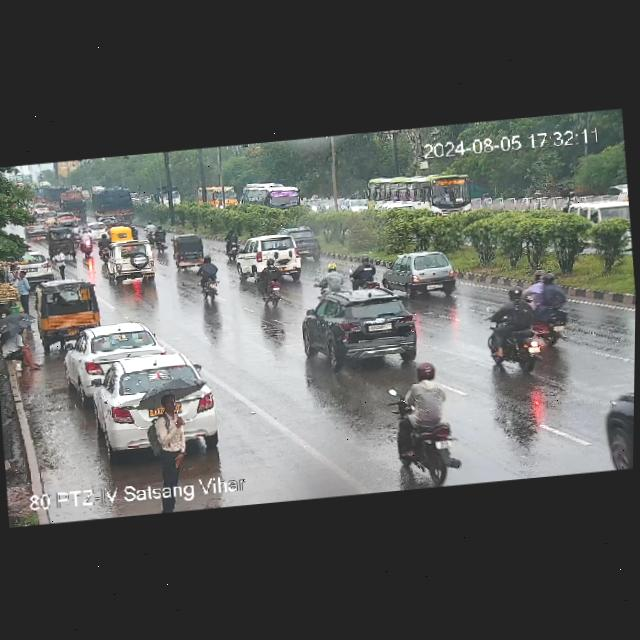bus: (369, 171, 483, 226), (241, 178, 302, 217)
car: (292, 282, 420, 371), (89, 350, 215, 434), (64, 319, 162, 386), (33, 278, 106, 344), (376, 248, 460, 302), (592, 383, 634, 472), (238, 232, 304, 279), (561, 185, 630, 227), (99, 240, 158, 288), (3, 251, 62, 283), (173, 234, 212, 272), (289, 224, 323, 261), (47, 228, 77, 257), (83, 221, 109, 241)
motorcycle: (388, 361, 456, 467), (474, 291, 546, 373), (518, 271, 576, 349), (88, 183, 136, 224), (197, 254, 226, 307), (343, 254, 383, 289), (258, 259, 285, 306), (311, 266, 353, 296), (145, 221, 169, 253), (79, 227, 95, 256)
person: (139, 387, 193, 488), (0, 326, 42, 377), (11, 268, 36, 310)
